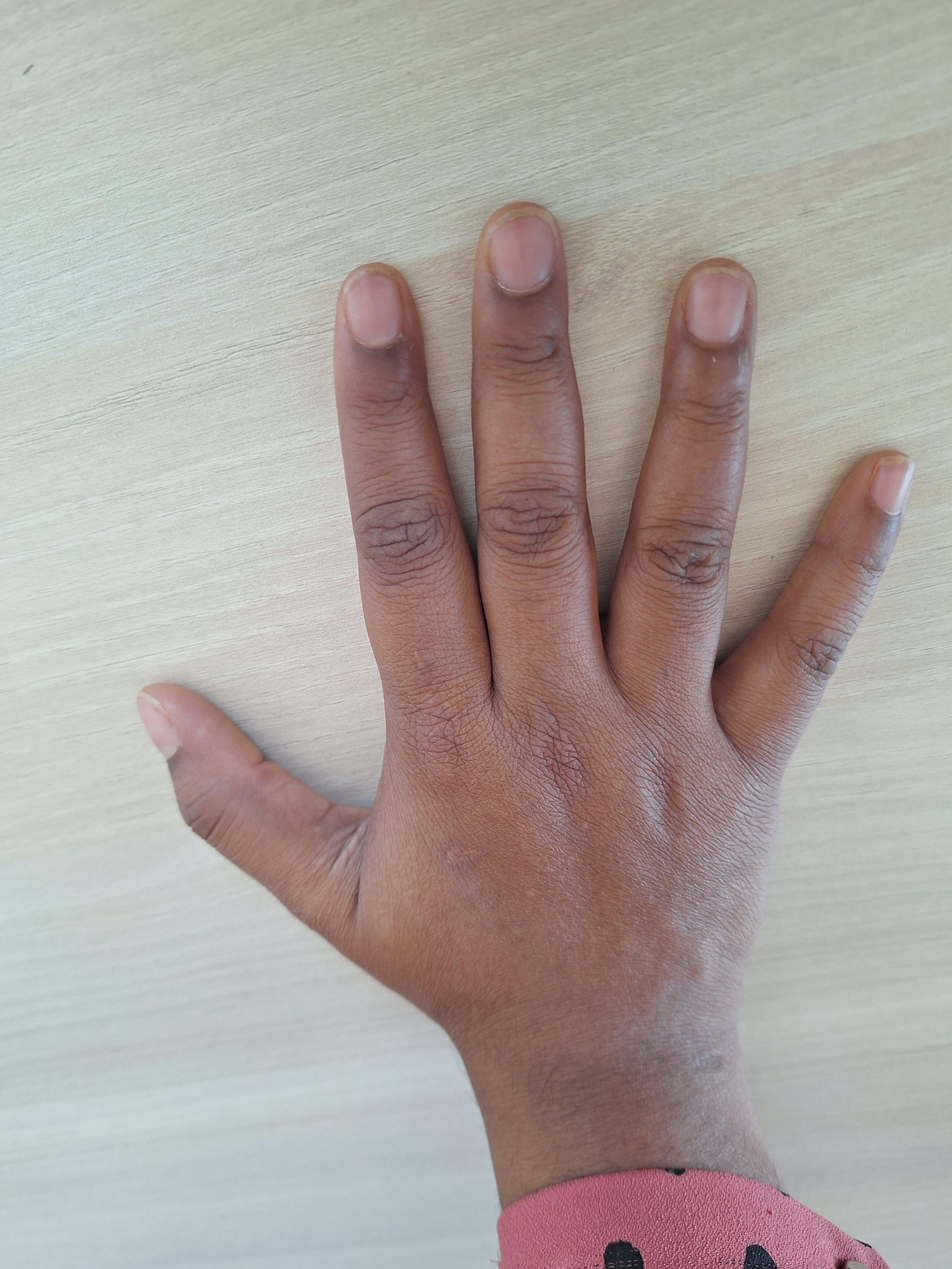Fingernail: (485, 207, 556, 290), (683, 266, 750, 344), (342, 268, 404, 345), (137, 692, 181, 760), (869, 455, 916, 515)
